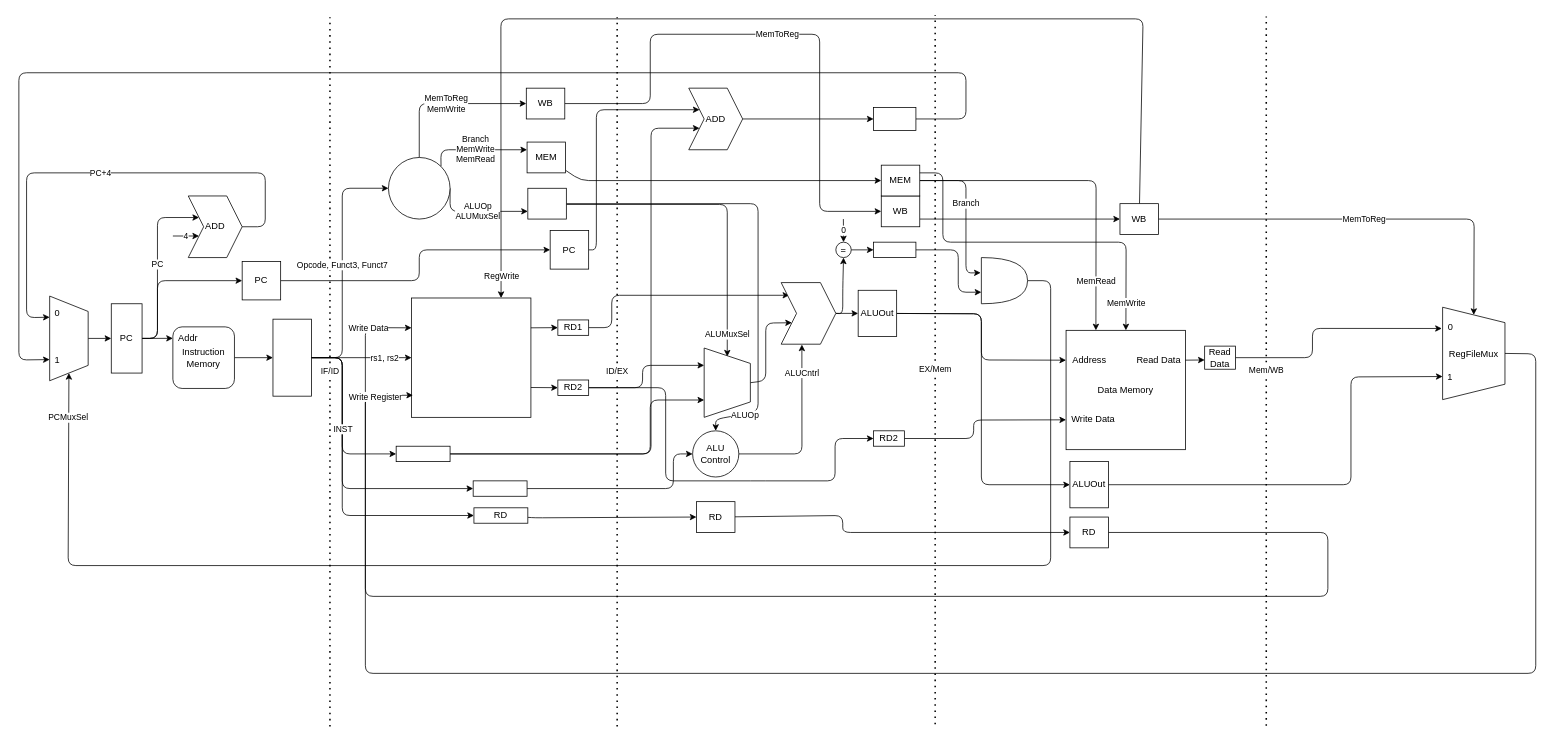
Some shapes in this 1555 by 742 pixel diagram are drawn without their labels. Each missing label, with the centre of its shape:
"ALU & CMP" goes at point (808, 313).
"ALU Mux" goes at point (726, 382).
"ALUZero" goes at point (894, 249).
"Control ROM" goes at point (419, 188).
"EX" goes at point (546, 203).
"Funct3" goes at point (499, 488).
"imm_*" goes at point (422, 453).
"IR" goes at point (291, 357).
"PC+imm" goes at point (894, 119).
"PCMux" goes at point (68, 338).
"Register File" goes at point (471, 357).
